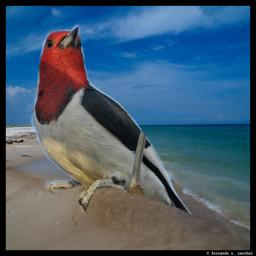Woodpecker: (25, 15, 201, 237)
